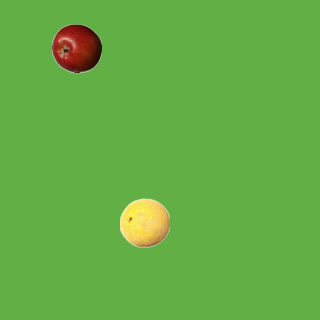Apple Braeburn: (51, 23, 101, 73)
Cantaloupe 1: (119, 197, 169, 247)
